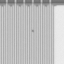dust: (32, 30, 34, 32)
